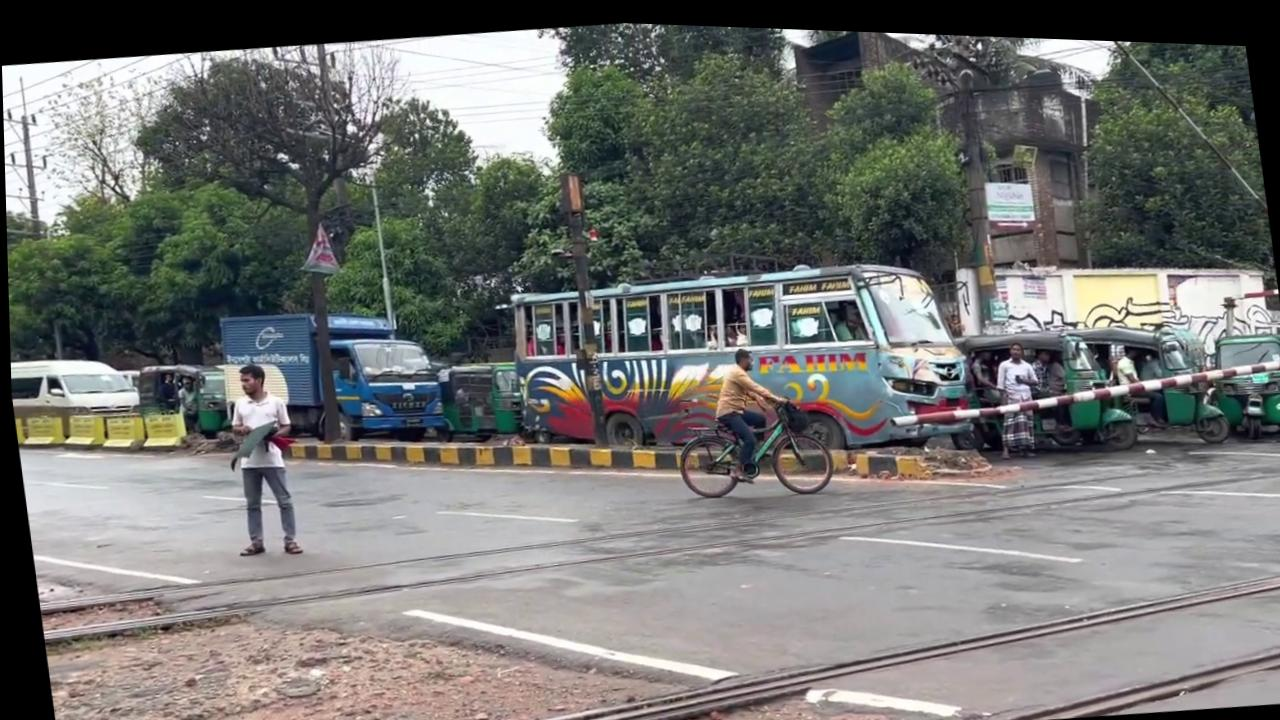Fence: (212, 357, 307, 557), (703, 337, 788, 479), (983, 331, 1046, 452)
Garbage: (881, 336, 1280, 432), (554, 166, 614, 442)
Motorcycle: (280, 524, 1280, 720)
